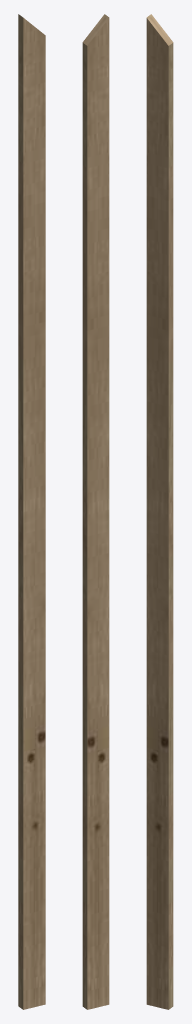
File: Joglo_part_392.fbx
3 views of the same model, side by side, from view 1: azimuth 30°, elevation 25°; view 2: azimuth 210°, elevation 25°; view 3: azimuth 330°, elevation 25° (orthographic).
Visible parts, largest first — view 1: Mesh62_Wood___Pine_Grained_Horizontal_0.001; view 2: Mesh62_Wood___Pine_Grained_Horizontal_0.001; view 3: Mesh62_Wood___Pine_Grained_Horizontal_0.001.
Part boxes in pixels (bbox=[...]): Mesh62_Wood___Pine_Grained_Horizontal_0.001: bbox=[18, 14, 45, 1009]; Mesh62_Wood___Pine_Grained_Horizontal_0.001: bbox=[82, 14, 109, 1009]; Mesh62_Wood___Pine_Grained_Horizontal_0.001: bbox=[146, 14, 173, 1009].
Bounding box in the file's own units: 1.97 × 84.13 × 0.7507.
